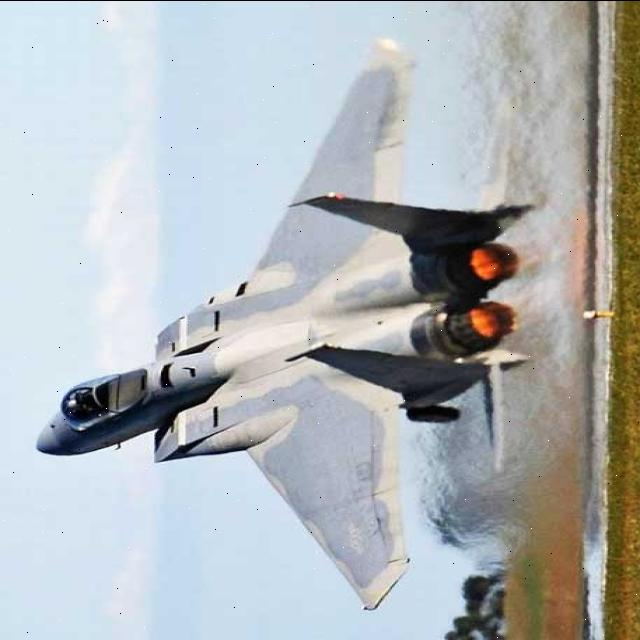F15: (16, 48, 518, 616)
